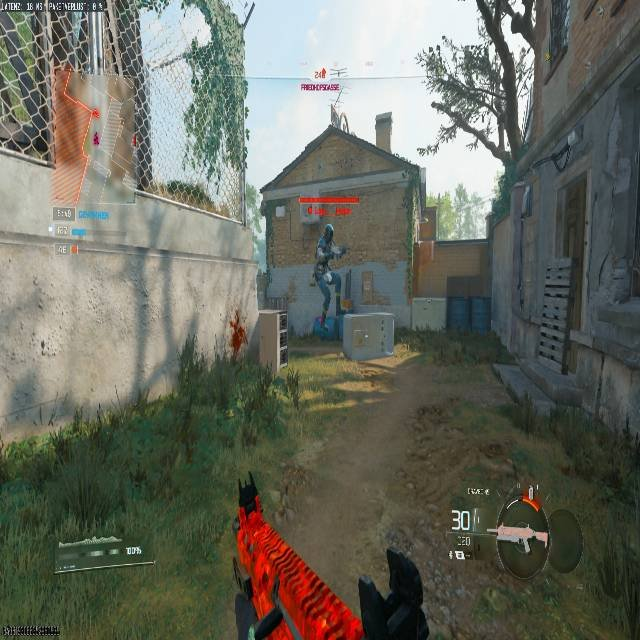head: (322, 223, 334, 239)
player: (313, 223, 347, 322), (313, 220, 342, 262)
